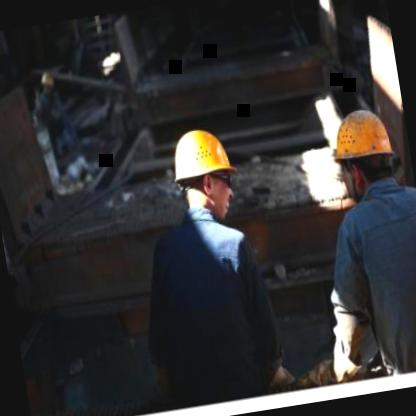helmet: (162, 114, 247, 233), (321, 97, 404, 205)
